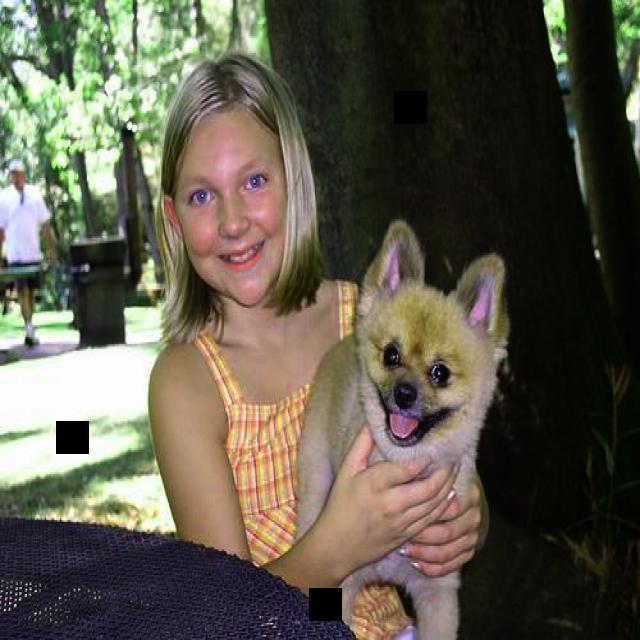adult_dog: (293, 218, 511, 640)
